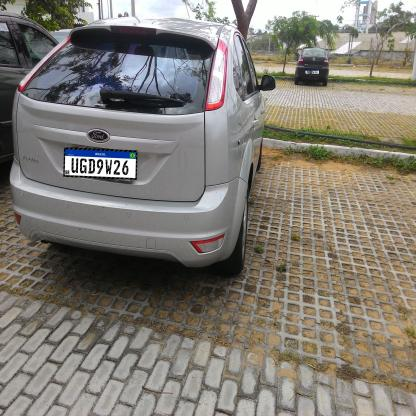PlacaM: (64, 147, 138, 180), (305, 70, 319, 74)
